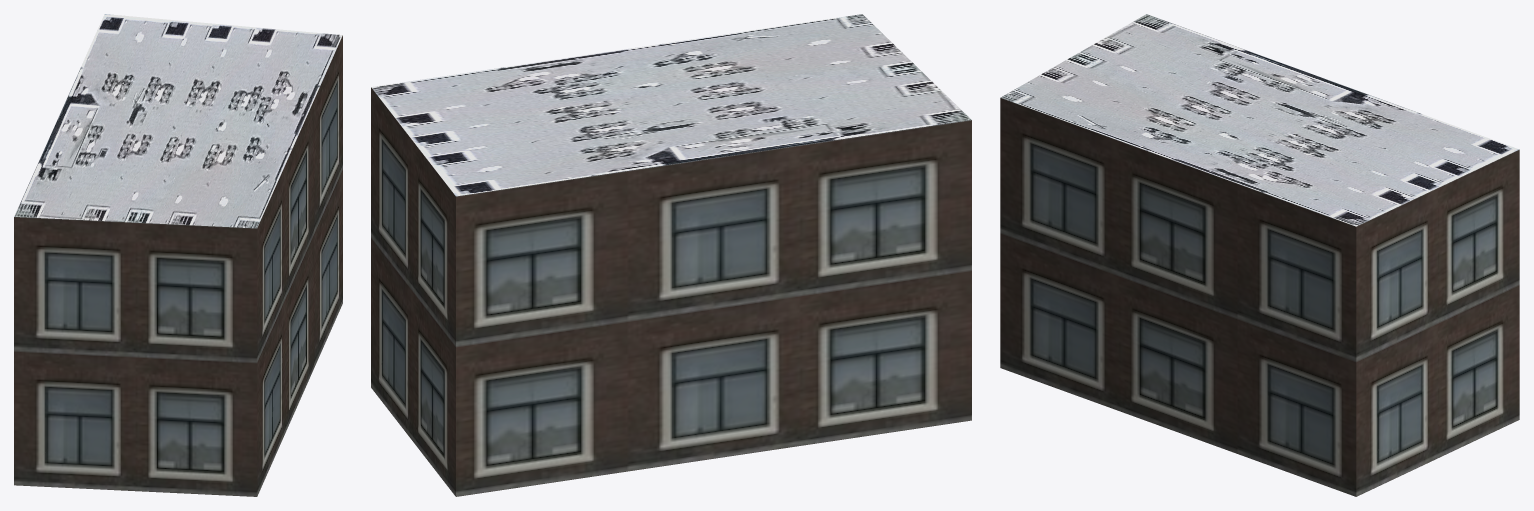
File: ResTex__3159.fbx
3 views of the same model, side by side, from view 1: azimuth 30°, elevation 25°; view 2: azimuth 150°, elevation 25°; view 3: azimuth 270°, elevation 25° (orthographic). The views are drawn at different scales.
Visible parts, largest first — view 1: CityEngineMaterial_16_m, CityEngineMaterial_15_m; view 2: CityEngineMaterial_16_m, CityEngineMaterial_15_m; view 3: CityEngineMaterial_16_m, CityEngineMaterial_15_m.
Boxes of the visible parts, left/top/right/bottom form: CityEngineMaterial_16_m: left=14, top=35, right=342, bottom=496; CityEngineMaterial_15_m: left=14, top=14, right=342, bottom=228; CityEngineMaterial_16_m: left=371, top=87, right=971, bottom=496; CityEngineMaterial_15_m: left=371, top=14, right=971, bottom=196; CityEngineMaterial_16_m: left=1000, top=98, right=1519, bottom=496; CityEngineMaterial_15_m: left=1000, top=14, right=1519, bottom=226.
Size of the model in its own units: 10.12 by 6 by 10.45.
2 materials, 2 textured.
